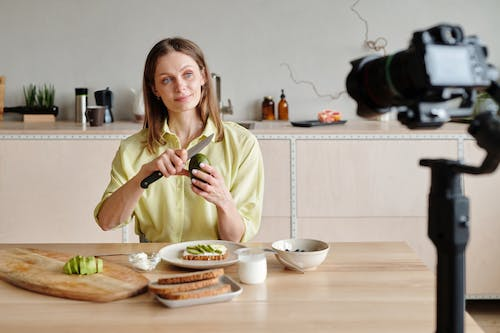knife: (139, 132, 214, 190)
